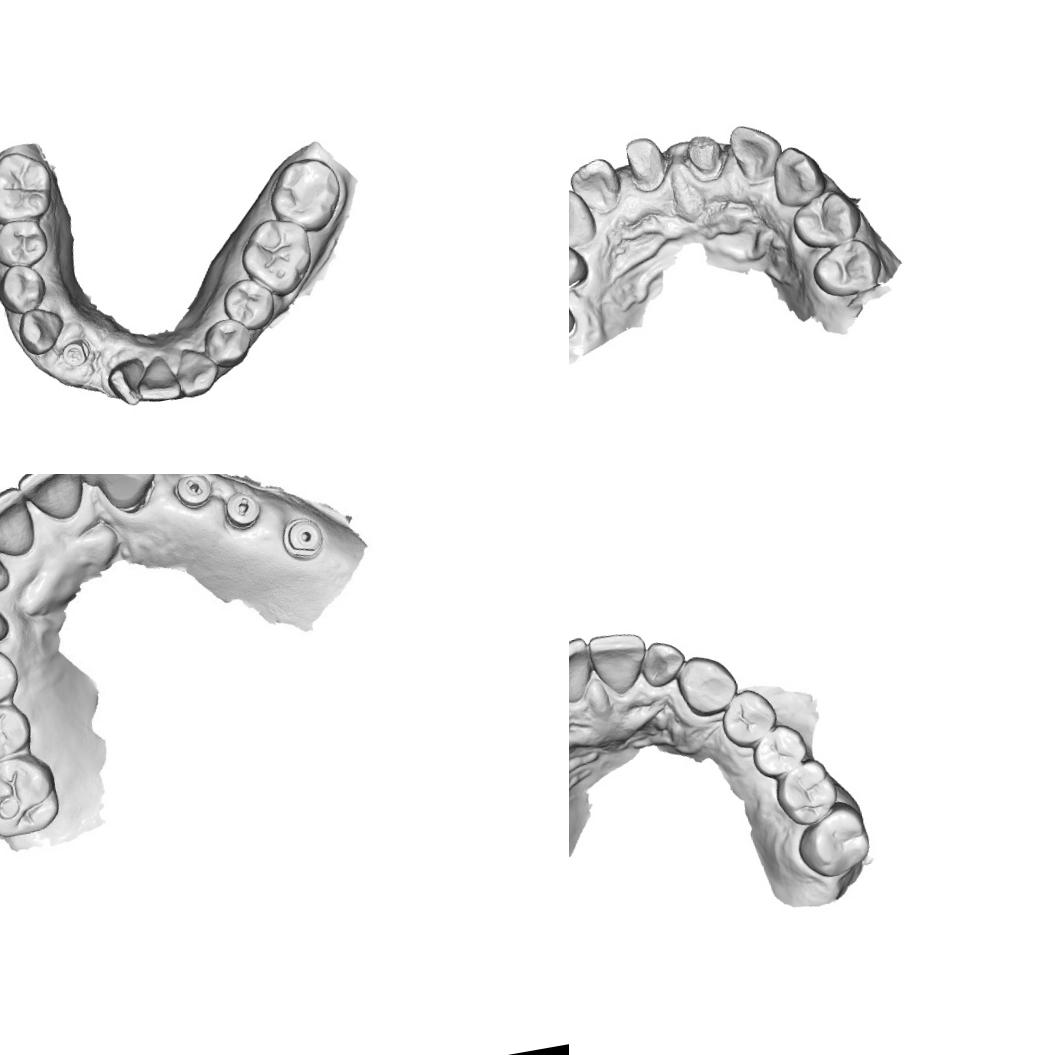canine: (672, 648, 742, 720), (765, 140, 829, 210), (12, 300, 71, 360), (198, 313, 256, 373), (569, 183, 599, 248), (0, 579, 19, 663)
crown: (620, 130, 672, 195), (679, 130, 729, 183)
implant: (270, 506, 333, 570), (57, 335, 95, 371)
implant_minus: (213, 485, 268, 534), (170, 474, 228, 517)
incisor: (586, 626, 652, 698), (723, 117, 788, 190), (569, 152, 627, 219), (16, 474, 85, 519), (131, 350, 184, 408), (169, 341, 221, 400), (101, 354, 151, 410), (638, 636, 690, 689), (0, 486, 36, 560), (569, 632, 600, 707), (93, 474, 161, 508)
molar: (232, 210, 319, 303), (789, 796, 875, 884), (262, 150, 347, 238), (0, 750, 65, 844), (770, 754, 843, 830), (0, 144, 60, 228)
premolar: (805, 234, 886, 301), (788, 184, 865, 252), (716, 684, 782, 752), (746, 720, 812, 780), (218, 272, 278, 334), (0, 256, 51, 316), (0, 216, 54, 272), (0, 698, 36, 768), (0, 644, 23, 715), (569, 229, 591, 297)
